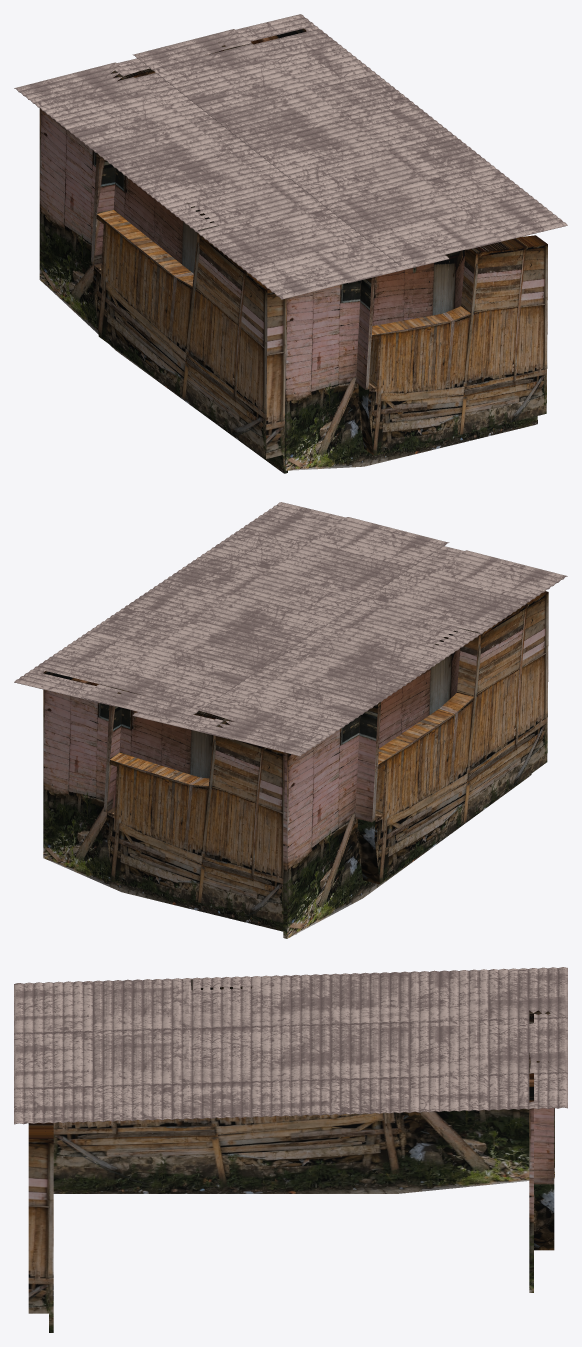
The model's file is casa_izquierda_02.fbx.
3 views of the same model, one above another, from view 1: azimuth 30°, elevation 25°; view 2: azimuth 150°, elevation 25°; view 3: azimuth 270°, elevation 25° (orthographic). The views are drawn at different scales.
Parts seen in each view (by area): view 1: Techo_02, casa_izquierda_02.002, casa_izquierda_02.001; view 2: Techo_02, casa_izquierda_02.001, casa_izquierda_02.003; view 3: Techo_02, casa_izquierda_02.001, casa_izquierda_02.002, casa_izquierda_02.003.
Part boxes in pixels (x1,y1,x2,y2): Techo_02: (14,14,567,299); casa_izquierda_02.002: (284,235,547,470); casa_izquierda_02.001: (39,108,287,473); Techo_02: (14,502,567,756); casa_izquierda_02.001: (283,591,548,938); casa_izquierda_02.003: (43,671,296,934); Techo_02: (14,967,567,1124); casa_izquierda_02.001: (53,979,554,1193); casa_izquierda_02.002: (28,1122,53,1332); casa_izquierda_02.003: (529,1010,554,1292).
Size of the model in its own units: 873 by 658 by 1413.
